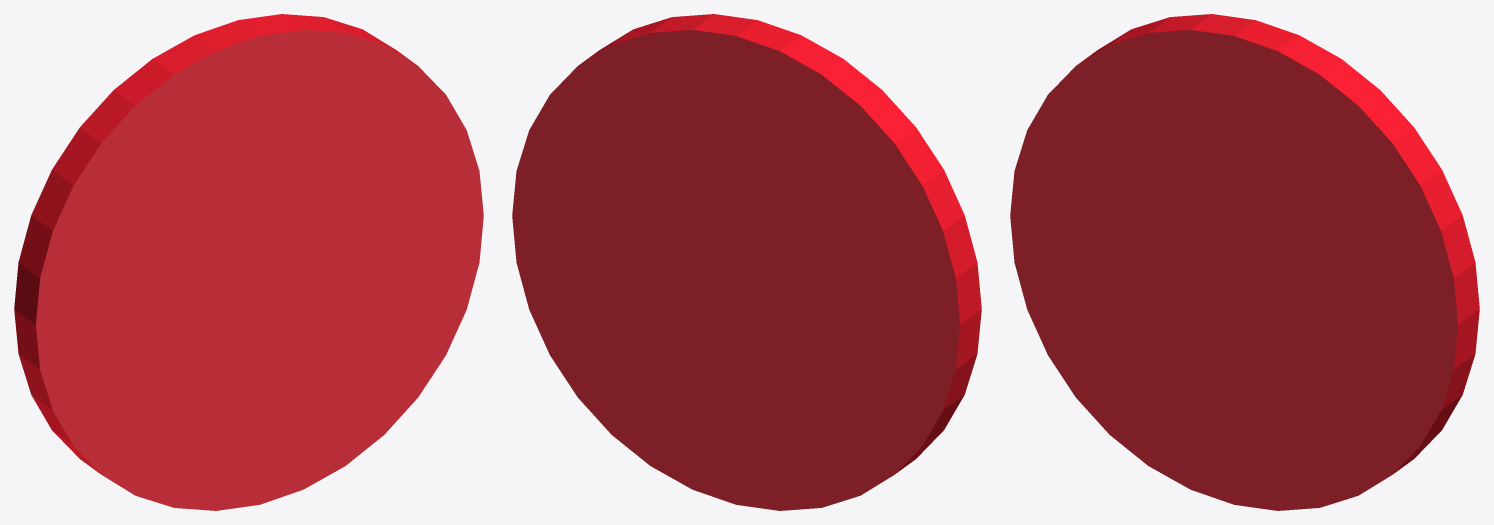
File: buy_btn.glb
The picture shows the model from 3 angles, left to right: view 1: azimuth 30°, elevation 25°; view 2: azimuth 150°, elevation 25°; view 3: azimuth 330°, elevation 25°; orthographic projection.
Visible parts, largest first — view 1: Cylinder.005; view 2: Cylinder.005; view 3: Cylinder.005.
Part boxes in pixels (x1,y1,x2,y2): Cylinder.005: (14,14,483,510); Cylinder.005: (512,14,981,510); Cylinder.005: (1010,14,1479,510).
Size of the model in its own units: 0.3149 by 0.3149 by 0.0264.
Materials: 1 (1 with a texture image).
